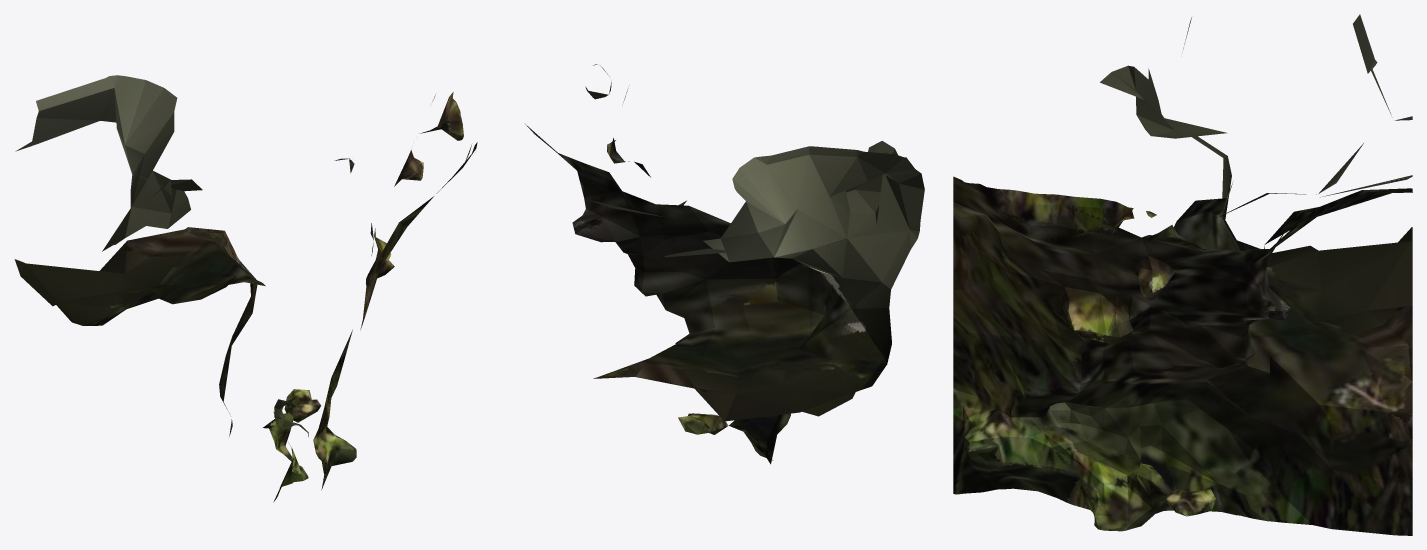
3 views of the same model, side by side, from view 1: azimuth 30°, elevation 25°; view 2: azimuth 150°, elevation 25°; view 3: azimuth 270°, elevation 25° (orthographic). The views are drawn at different scales.
Bounding box in the file's own units: 0.8374 × 0.8373 × 0.8374.
5 materials, 5 textured.
